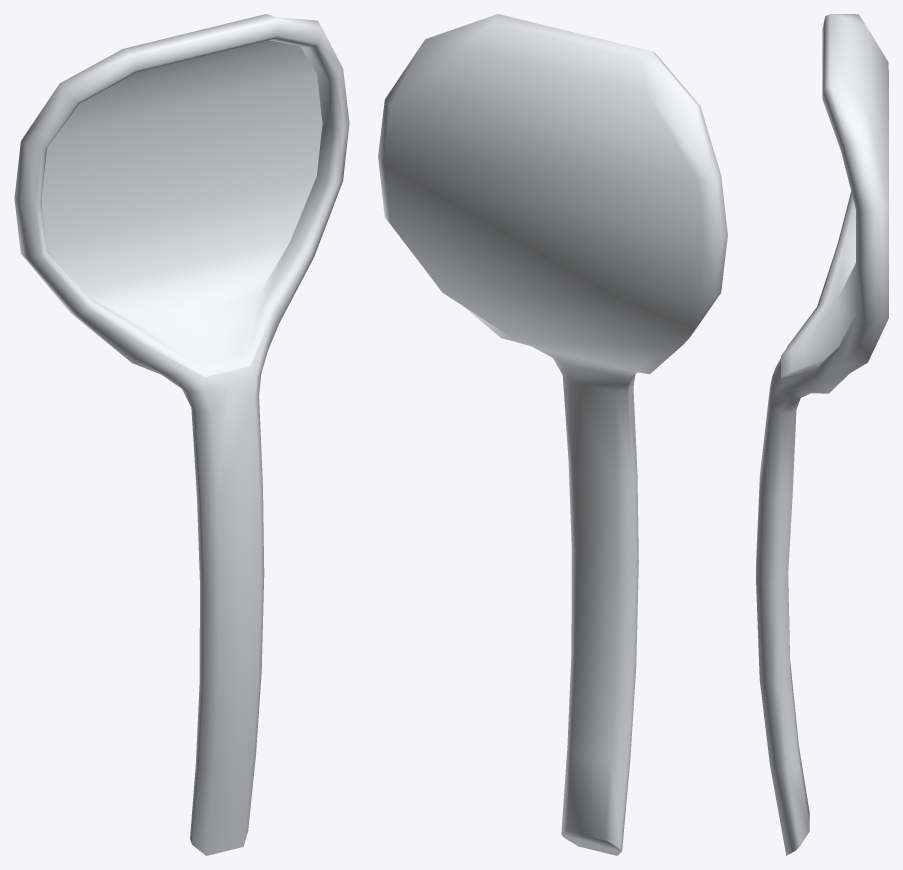
The model's file is sspoon_serving_spoon_plastic.glb.
3 views of the same model, side by side, from view 1: azimuth 30°, elevation 25°; view 2: azimuth 150°, elevation 25°; view 3: azimuth 270°, elevation 25° (orthographic). The views are drawn at different scales.
Parts seen in each view (by area): view 1: sspoon serving spoon plastic; view 2: sspoon serving spoon plastic; view 3: sspoon serving spoon plastic.
Boxes of the visible parts, bbox=[...] form: sspoon serving spoon plastic: bbox=[14, 14, 349, 855]; sspoon serving spoon plastic: bbox=[378, 14, 727, 855]; sspoon serving spoon plastic: bbox=[756, 14, 888, 855].
Bounding box in the file's own units: 2.31 × 5.37 × 0.8121.
1 material, 1 textured.
